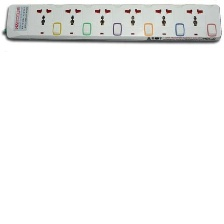three_eye_plug: (0, 2, 222, 44)
